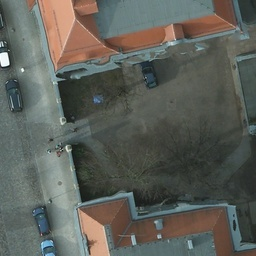car: (5, 79, 24, 112), (139, 63, 160, 90), (0, 40, 12, 72), (34, 206, 47, 232), (0, 2, 5, 32)
